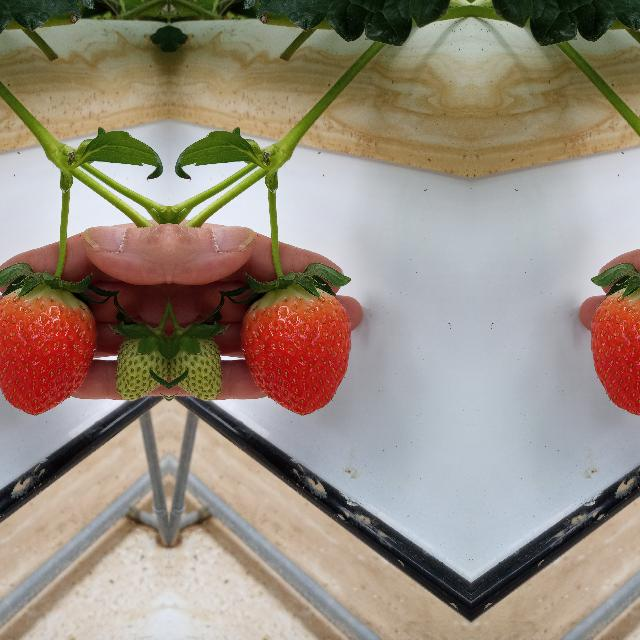Health_100: (239, 281, 351, 417), (0, 281, 97, 417), (590, 281, 640, 417)
Health_25: (172, 324, 220, 408), (116, 324, 164, 408)
